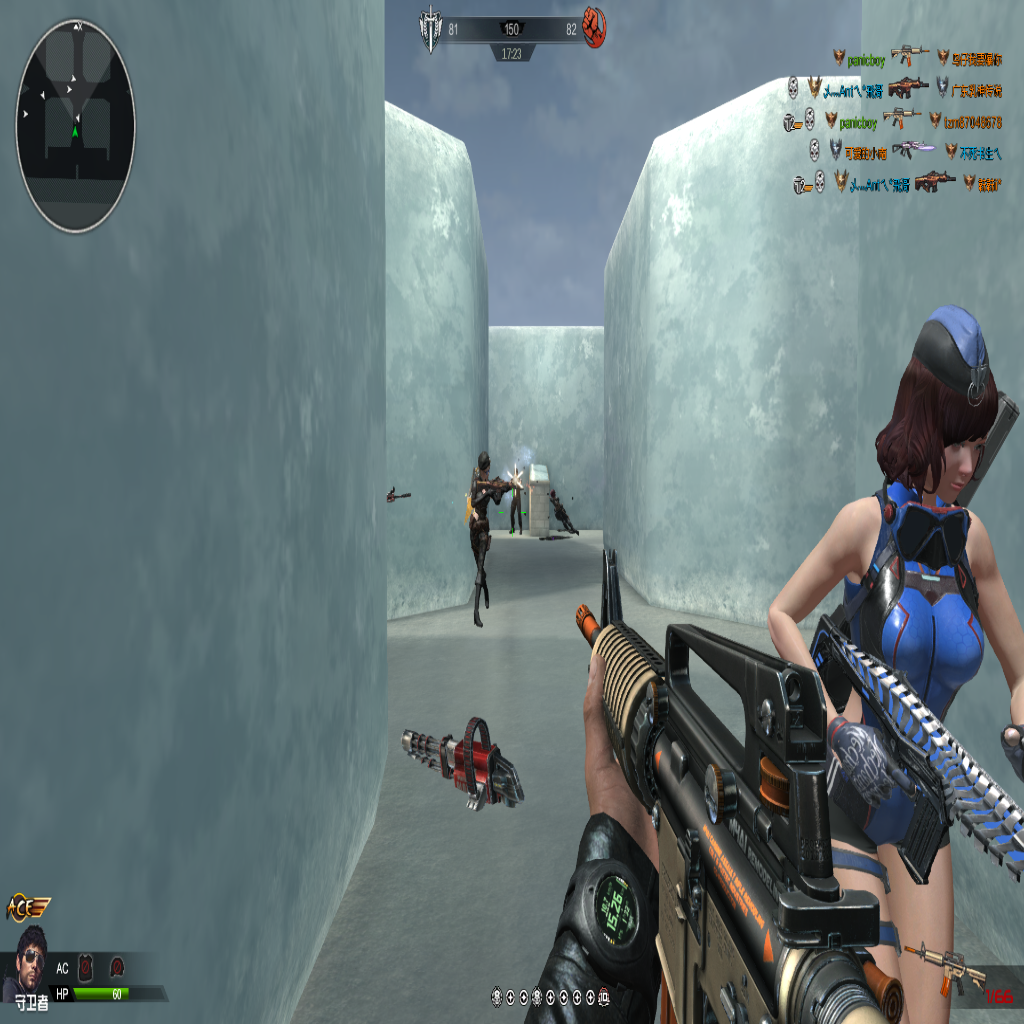ct: (749, 311, 1024, 793), (467, 451, 518, 635)
